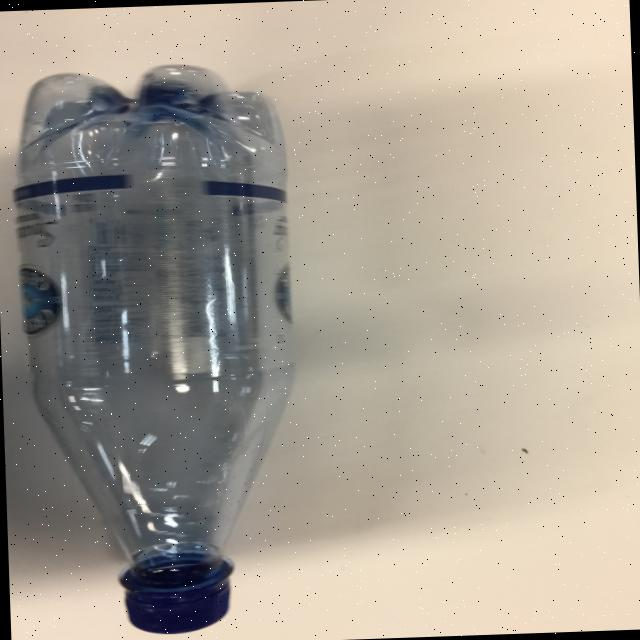plastic: (8, 59, 307, 636)
